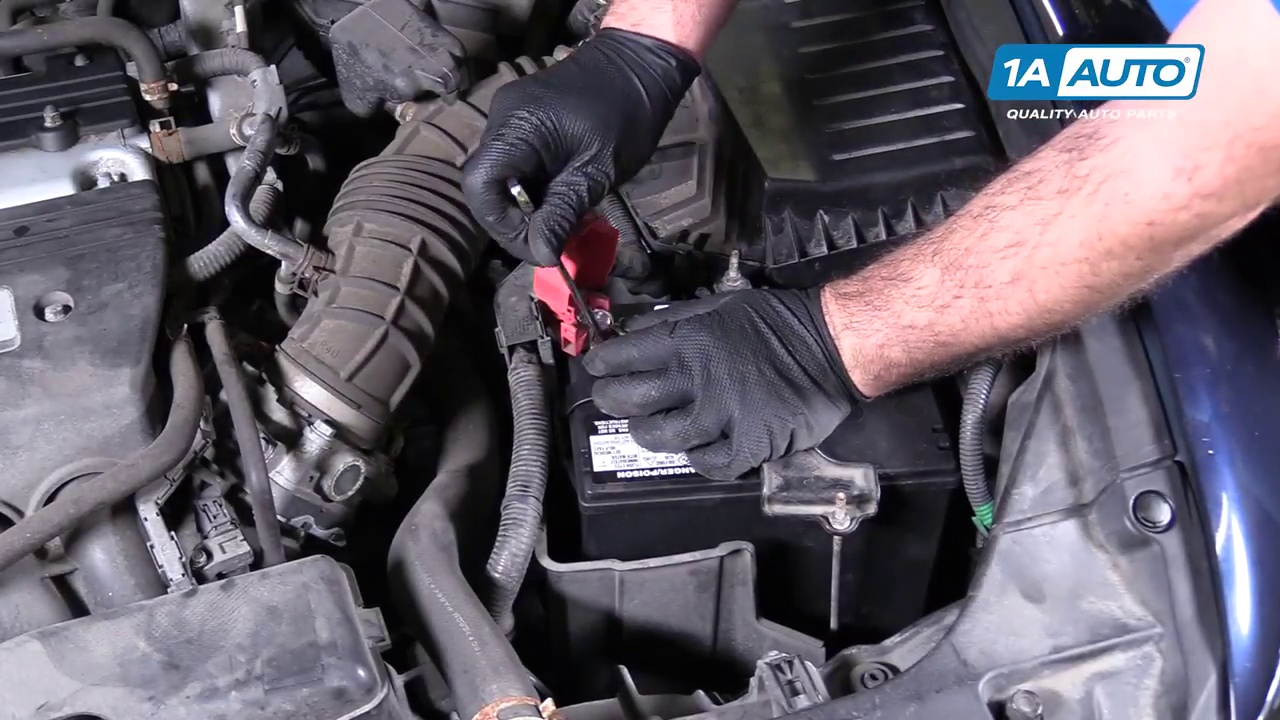battery: (543, 286, 965, 500)
pos_touched: (453, 150, 684, 396)
